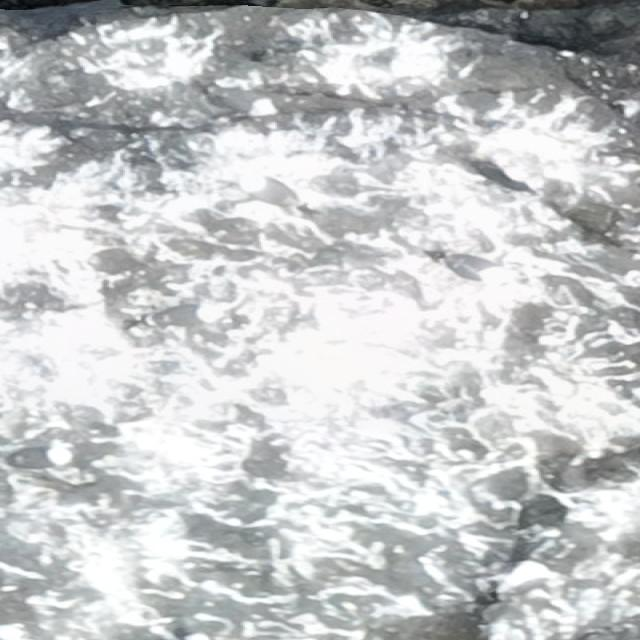umineko: (239, 173, 312, 212), (432, 252, 510, 282), (139, 304, 225, 330), (212, 86, 278, 118), (8, 444, 68, 472)
